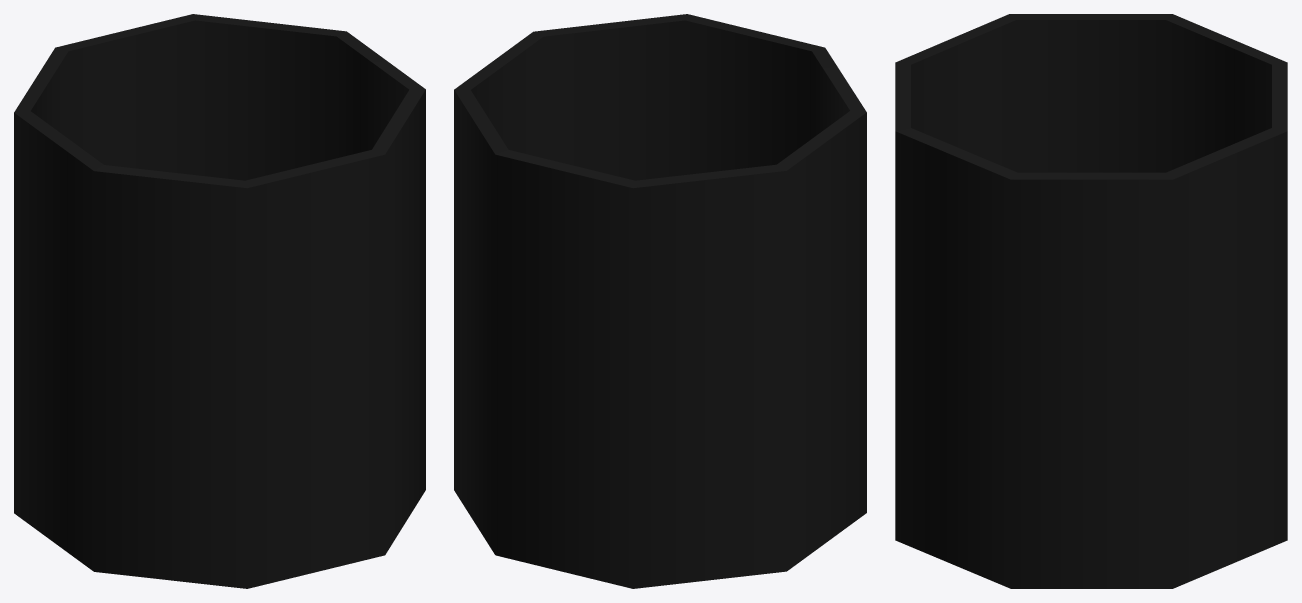
File: Itr_Lamp_Cap2_02.FBX
The picture shows the model from 3 angles, left to right: view 1: azimuth 30°, elevation 25°; view 2: azimuth 150°, elevation 25°; view 3: azimuth 270°, elevation 25°; orthographic projection. The views are drawn at different scales.
Visible parts, largest first — view 1: Itr_Lamp_Cap2_02; view 2: Itr_Lamp_Cap2_02; view 3: Itr_Lamp_Cap2_02.
Boxes of the visible parts, box(x1,y1,x2,y2) form: Itr_Lamp_Cap2_02: box(14, 14, 425, 588); Itr_Lamp_Cap2_02: box(454, 14, 866, 588); Itr_Lamp_Cap2_02: box(895, 14, 1287, 588).
Size of the model in its own units: 7.69 by 8.87 by 7.69.
